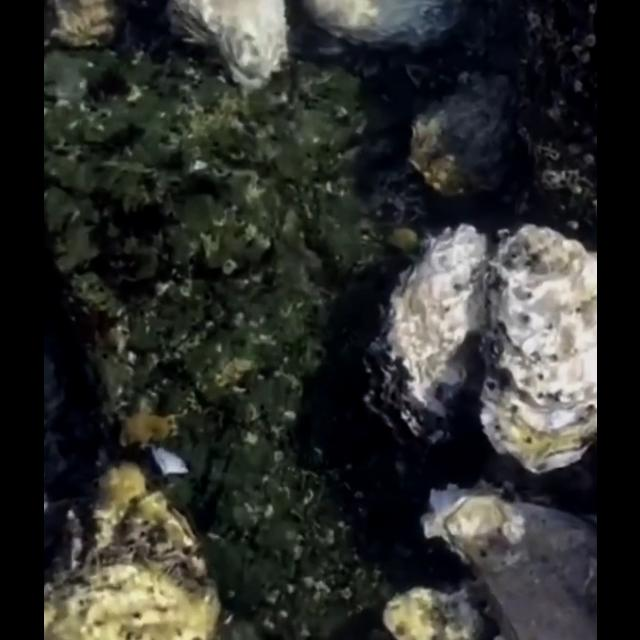Oyster-Closed: (44, 458, 226, 640), (478, 221, 596, 475), (419, 478, 596, 640), (405, 72, 517, 198), (160, 1, 292, 98), (302, 0, 462, 50), (380, 584, 486, 640), (43, 0, 123, 54)
Oyster-Open: (362, 222, 492, 456)
